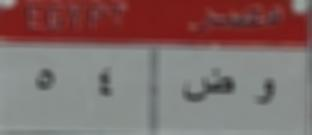4: (94, 64, 116, 101)
5: (30, 61, 59, 100)
daad: (180, 64, 238, 112)
waw: (251, 72, 279, 109)
